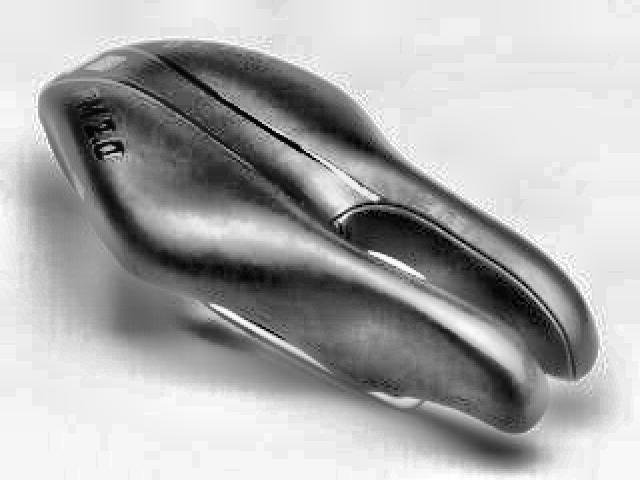saddle: (32, 35, 602, 444)
